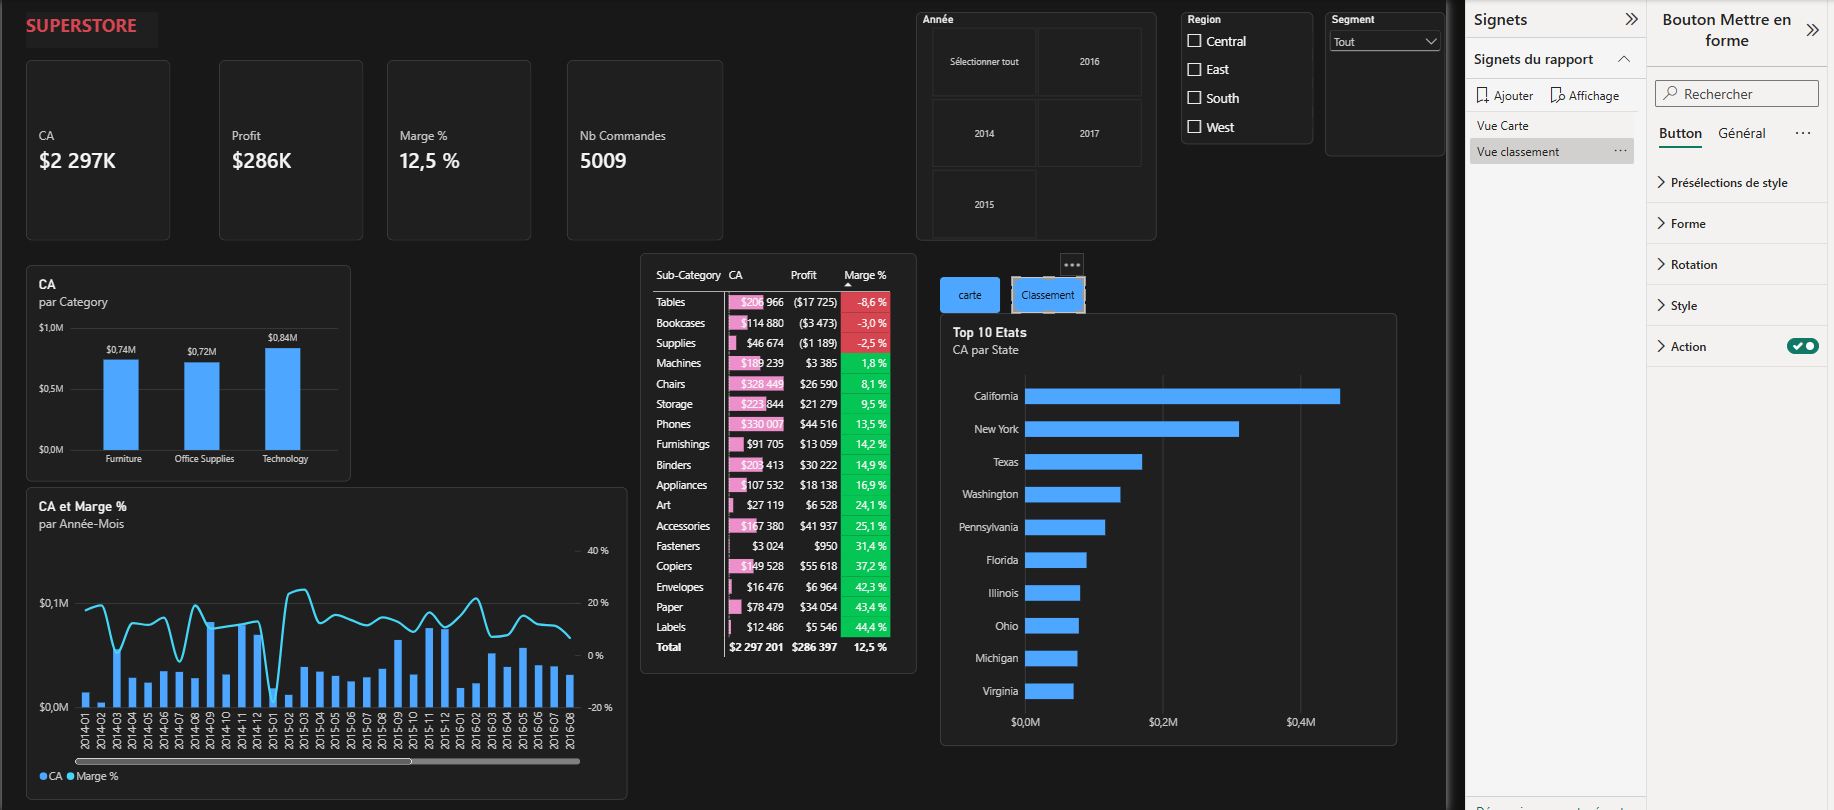

This screenshot's page, from the dashboard's own definition file:
{"tool":"powerbi","page":{"name":"Vue d'ensemble","canvas":[1920,1080],"ordinal":0},"visuals":[{"type":"cardVisual","title":"KPI CA","fields":{"Data":["Mesures.CA"]},"box":[32,80,192,240],"z":0},{"type":"cardVisual","title":"KPI Profit","fields":{"Data":["Mesures.Profit"]},"box":[288,80,192,240],"z":1000},{"type":"cardVisual","title":"KPI Marge","fields":{"Data":["Mesures.Marge %"]},"box":[512,80,192,240],"z":2000},{"type":"cardVisual","title":"KPI Commandes","fields":{"Data":["Mesures.Nb Commandes"]},"box":[752,80,208,240],"z":3000},{"type":"lineClusteredColumnComboChart","fields":{"Category":["Calendrier.Année-Mois"],"Y":["Mesures.CA"],"Y2":["Mesures.Marge %"]},"box":[32,648,800,416],"z":4000},{"type":"clusteredColumnChart","fields":{"Category":["Dim_produit.Category","Dim_produit.Sub-Category"],"Y":["Mesures.CA"]},"box":[32,352,432,288],"z":5000},{"type":"filledMap","title":"CA par Etat","fields":{"Category":["Dim-Geo.State"]},"box":[1248,416,608,576],"z":6000},{"type":"slicer","fields":{"Values":["Calendrier.Année"]},"box":[1216,16,320,304],"z":7000},{"type":"slicer","fields":{"Values":["Dim-Geo.Region"]},"box":[1568,16,176,176],"z":8000},{"type":"slicer","fields":{"Values":["Dim_Client.Segment"]},"box":[1760,16,160,192],"z":9000},{"type":"pivotTable","fields":{"Rows":["Dim_produit.Sub-Category"],"Values":["Mesures.CA","Mesures.Profit","Mesures.Marge %"]},"box":[848,336,368,560],"z":10000},{"type":"textbox","box":[32,16,176,48],"z":11000},{"type":"actionButton","box":[1248,368,80,48],"z":13000},{"type":"actionButton","box":[1344,368,96,48],"z":14000}]}

Visuals, with their boxes on the page's 1920x1080 design canvas (x1, y1, x2, y2). These are canvas units, not pixel positions in the 1834x810 screenshot, which may show the page scaled, cropped or inside an application window:
"KPI CA" cardVisual: select_region(32, 80, 224, 320)
"KPI Profit" cardVisual: select_region(288, 80, 480, 320)
"KPI Marge" cardVisual: select_region(512, 80, 704, 320)
"KPI Commandes" cardVisual: select_region(752, 80, 960, 320)
lineClusteredColumnComboChart - Calendrier.Année-Mois x Mesures.CA: select_region(32, 648, 832, 1064)
clusteredColumnChart - Dim_produit.Category x Dim_produit.Sub-Category: select_region(32, 352, 464, 640)
"CA par Etat" filledMap: select_region(1248, 416, 1856, 992)
slicer - Calendrier.Année: select_region(1216, 16, 1536, 320)
slicer - Dim-Geo.Region: select_region(1568, 16, 1744, 192)
slicer - Dim_Client.Segment: select_region(1760, 16, 1920, 208)
pivotTable - Dim_produit.Sub-Category x Mesures.CA: select_region(848, 336, 1216, 896)
textbox: select_region(32, 16, 208, 64)
actionButton: select_region(1248, 368, 1328, 416)
actionButton: select_region(1344, 368, 1440, 416)
